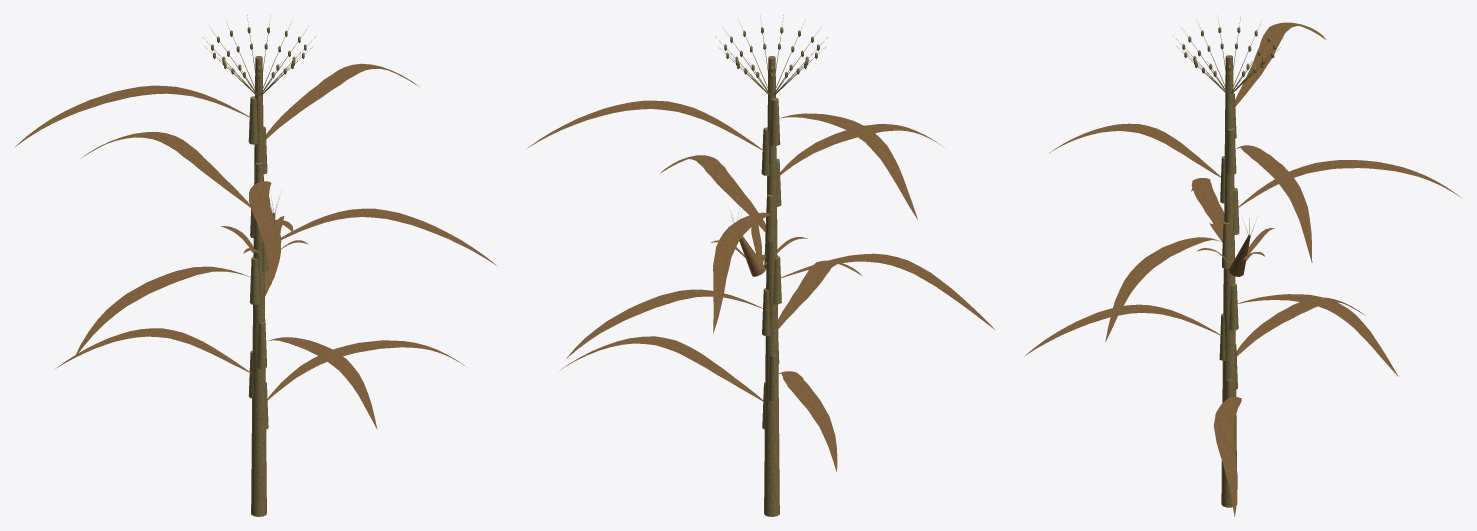
Rendered from PZ_Crop_Corn_Dead.glb.
3 views of the same model, side by side, from view 1: azimuth 30°, elevation 25°; view 2: azimuth 150°, elevation 25°; view 3: azimuth 270°, elevation 25° (orthographic).
Parts seen in each view (by area): view 1: PZ_Crop_Corn_Dead_02_Curved_Broad_Blades, PZ_Crop_Corn_Dead_01_Culm, PZ_Crop_Corn_Dead_03_Leaf_Sheaths, PZ_Crop_Corn_Dead_04_Tassel_Branches; view 2: PZ_Crop_Corn_Dead_02_Curved_Broad_Blades, PZ_Crop_Corn_Dead_01_Culm, PZ_Crop_Corn_Dead_03_Leaf_Sheaths, PZ_Crop_Corn_Dead_04_Tassel_Branches, PZ_Crop_Corn_Dead_05_Ear_Husks; view 3: PZ_Crop_Corn_Dead_02_Curved_Broad_Blades, PZ_Crop_Corn_Dead_01_Culm, PZ_Crop_Corn_Dead_03_Leaf_Sheaths, PZ_Crop_Corn_Dead_04_Tassel_Branches, PZ_Crop_Corn_Dead_05_Ear_Husks.
Part boxes in pixels (x1,y1,x2,y2): PZ_Crop_Corn_Dead_02_Curved_Broad_Blades: (15, 63, 496, 429); PZ_Crop_Corn_Dead_01_Culm: (251, 56, 266, 516); PZ_Crop_Corn_Dead_03_Leaf_Sheaths: (248, 96, 268, 429); PZ_Crop_Corn_Dead_04_Tassel_Branches: (203, 15, 315, 95); PZ_Crop_Corn_Dead_02_Curved_Broad_Blades: (527, 100, 994, 471); PZ_Crop_Corn_Dead_01_Culm: (764, 56, 779, 516); PZ_Crop_Corn_Dead_03_Leaf_Sheaths: (761, 98, 781, 429); PZ_Crop_Corn_Dead_04_Tassel_Branches: (715, 15, 827, 95); PZ_Crop_Corn_Dead_05_Ear_Husks: (711, 223, 807, 276); PZ_Crop_Corn_Dead_02_Curved_Broad_Blades: (1024, 22, 1461, 516); PZ_Crop_Corn_Dead_01_Culm: (1221, 55, 1237, 507); PZ_Crop_Corn_Dead_03_Leaf_Sheaths: (1219, 93, 1239, 422); PZ_Crop_Corn_Dead_04_Tassel_Branches: (1173, 14, 1283, 93); PZ_Crop_Corn_Dead_05_Ear_Husks: (1196, 223, 1275, 276).
Bounding box in the file's own units: 1.66 × 1.81 × 1.54.
Materials: 2 (2 with a texture image).
